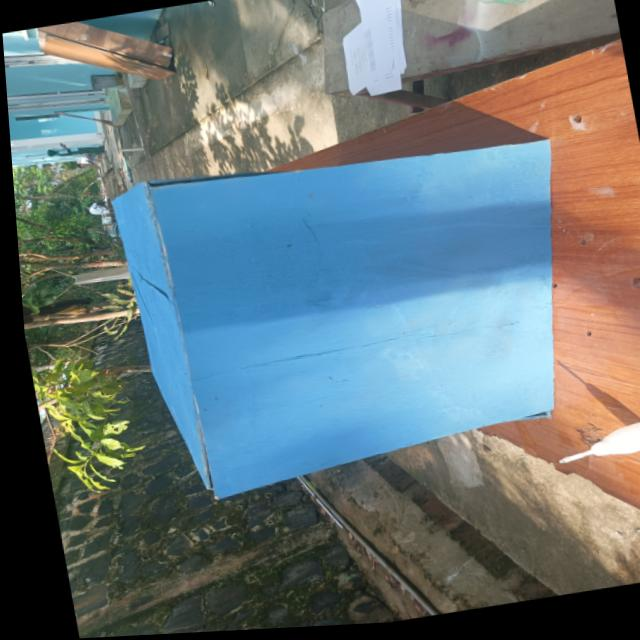blue_box: (38, 50, 640, 551)
